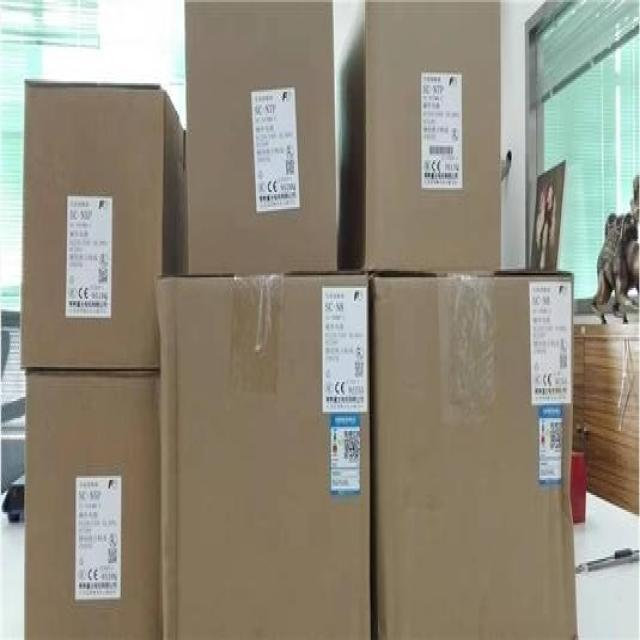box: (156, 273, 371, 640), (371, 273, 580, 640), (22, 79, 184, 371), (181, 2, 336, 275), (365, 0, 500, 275), (26, 373, 160, 638)
